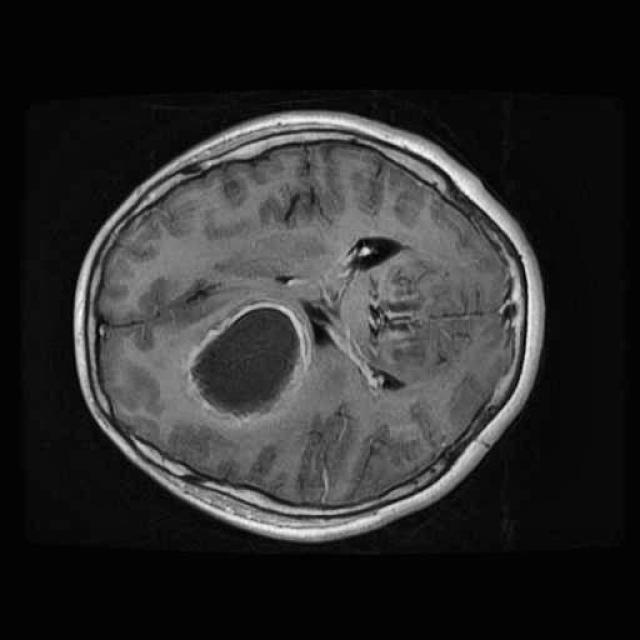Non-Tumor: (180, 289, 316, 429)
